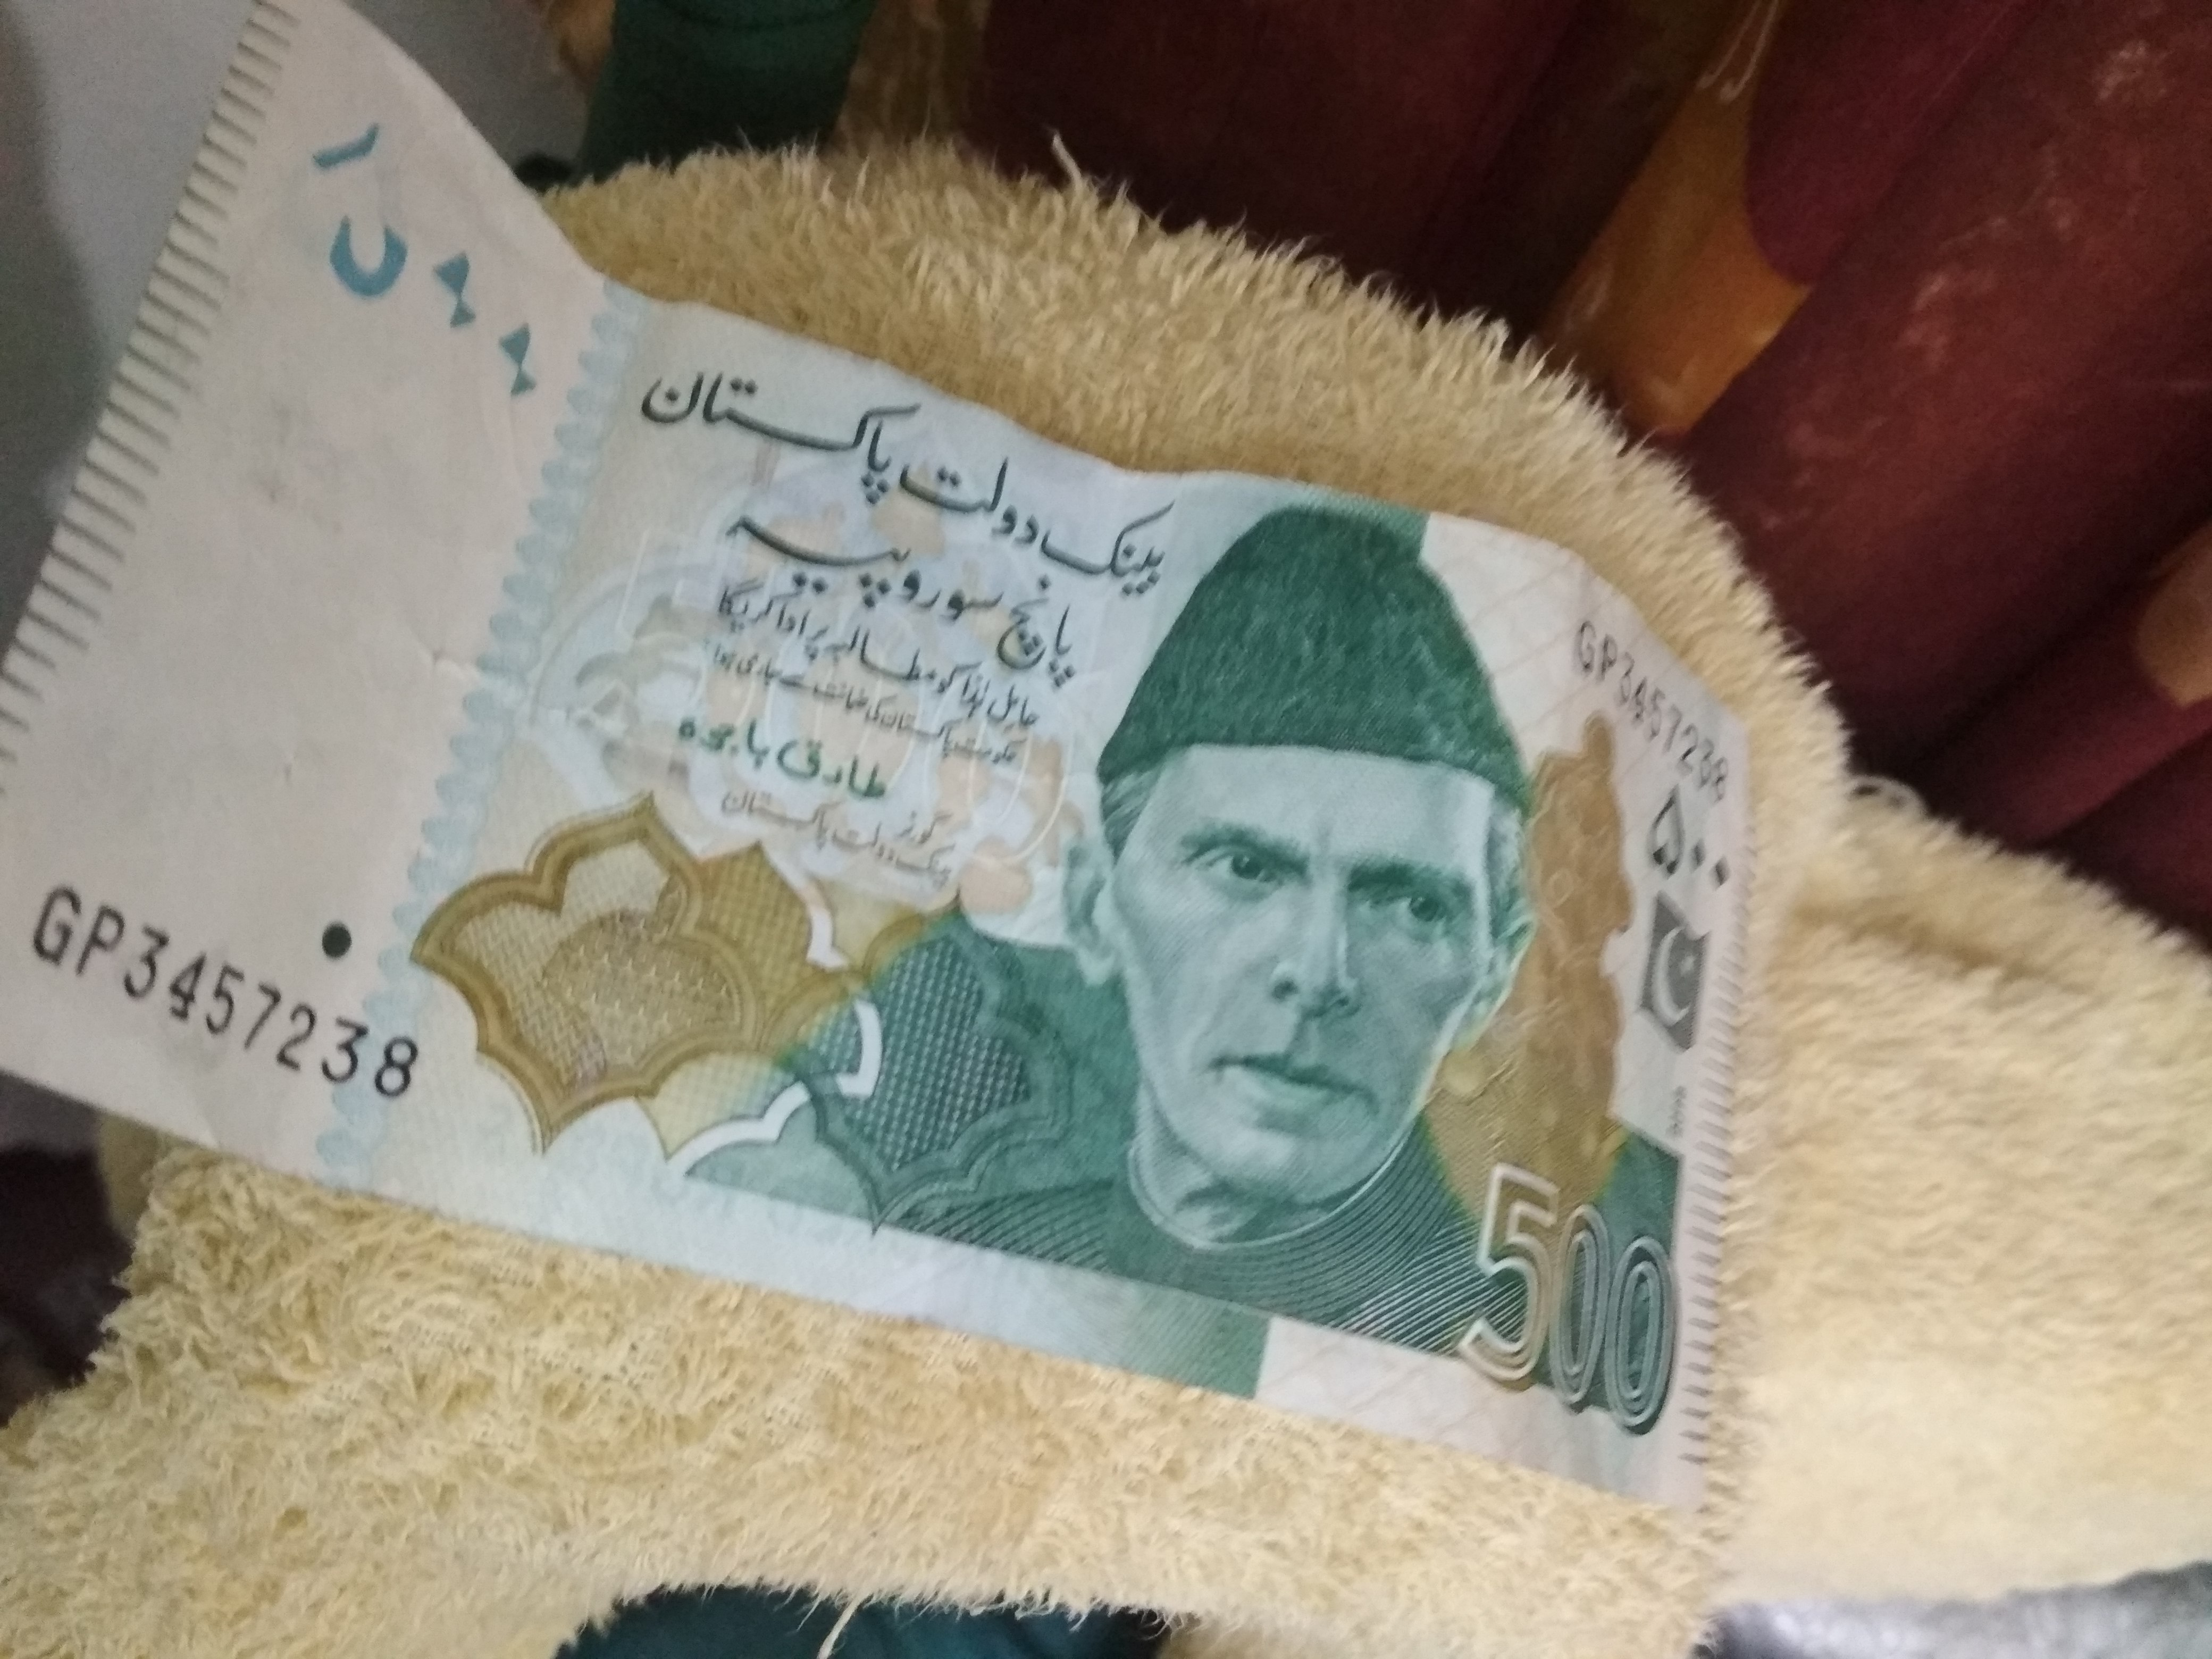500 rupee: (26, 42, 1791, 1480)
